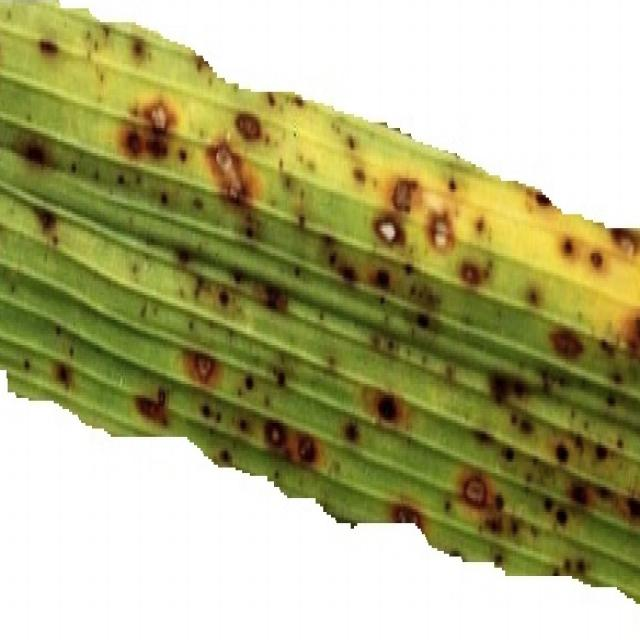brown spot: (203, 118, 263, 246), (118, 87, 190, 173), (7, 106, 67, 185), (361, 380, 420, 443), (162, 235, 208, 312), (382, 157, 426, 224), (484, 358, 544, 405), (543, 311, 593, 366), (384, 486, 431, 544), (81, 14, 111, 102), (23, 194, 62, 258), (247, 270, 296, 320), (129, 378, 174, 432), (174, 342, 224, 390), (260, 402, 293, 471), (454, 245, 496, 298), (456, 463, 494, 515), (601, 211, 640, 261), (234, 98, 274, 146), (569, 473, 619, 511), (515, 179, 561, 220), (324, 244, 365, 290), (292, 421, 324, 477), (31, 21, 64, 74), (515, 266, 548, 316), (464, 418, 502, 461), (371, 202, 408, 246), (576, 236, 613, 280), (424, 214, 465, 252), (553, 216, 578, 272), (49, 351, 78, 399), (620, 306, 640, 370), (196, 390, 226, 431), (596, 318, 619, 371), (550, 494, 578, 537), (125, 30, 154, 71), (548, 430, 578, 469), (339, 405, 363, 453), (412, 295, 438, 338), (567, 416, 591, 462), (370, 262, 397, 302), (620, 482, 640, 534), (348, 153, 372, 196), (468, 202, 492, 244), (269, 351, 292, 394), (515, 409, 539, 448), (192, 49, 217, 86), (240, 358, 260, 402), (287, 92, 317, 121), (366, 316, 385, 361), (337, 127, 361, 162), (591, 432, 611, 474), (232, 405, 255, 440), (505, 395, 523, 438), (444, 540, 472, 566), (213, 279, 232, 317), (215, 440, 236, 474), (441, 354, 459, 393), (491, 542, 510, 578), (443, 164, 460, 204), (440, 487, 456, 528), (48, 312, 66, 348), (303, 151, 322, 185), (498, 441, 520, 470), (88, 162, 104, 195), (64, 333, 81, 364), (113, 169, 131, 198), (384, 330, 398, 367), (156, 182, 172, 214), (539, 489, 556, 519), (506, 510, 524, 537), (189, 190, 206, 218), (67, 152, 80, 188), (600, 387, 618, 413), (136, 295, 150, 328), (576, 552, 592, 579), (296, 207, 308, 241), (282, 167, 295, 197), (126, 256, 140, 283), (610, 364, 624, 390), (182, 313, 197, 336), (614, 429, 626, 456), (0, 36, 8, 75), (277, 150, 287, 178), (0, 212, 9, 242), (19, 352, 30, 375), (561, 554, 574, 568)
